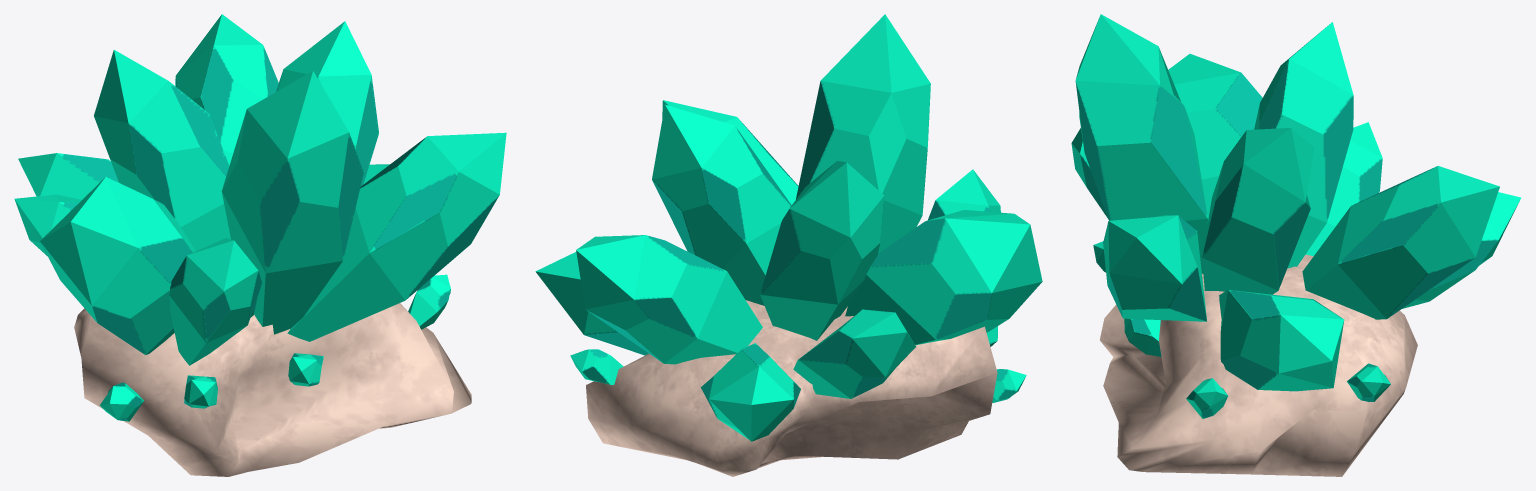
Rendered from Mineral_FBX.fbx.
3 renders of one model, left to right at view 1: azimuth 30°, elevation 25°; view 2: azimuth 150°, elevation 25°; view 3: azimuth 270°, elevation 25°, orthographic. The views are drawn at different scales.
Visible parts, largest first — view 1: Mineral; view 2: Mineral; view 3: Mineral.
Boxes of the visible parts, x1,y1,x2,y2 form: Mineral: (14,14,506,476); Mineral: (535,14,1042,476); Mineral: (1071,14,1520,476).
Bounding box in the file's own units: 1.19 × 1.05 × 1.09.
